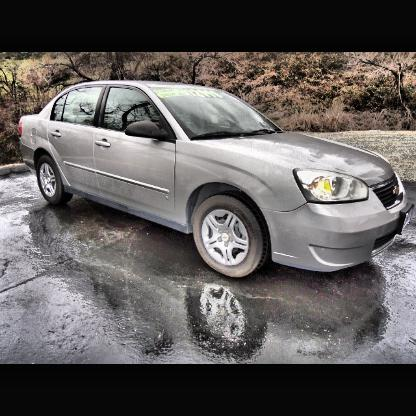Chevrolet Malibu Sedan 2007: (13, 68, 416, 304)
